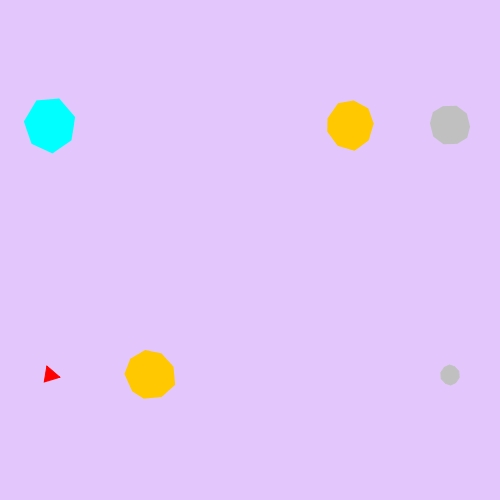decagon: (425, 102, 475, 148), (435, 361, 465, 389)
heptagon: (20, 96, 81, 154)
nonagon: (121, 348, 179, 403), (322, 98, 379, 152)
triangle: (38, 362, 63, 388)
